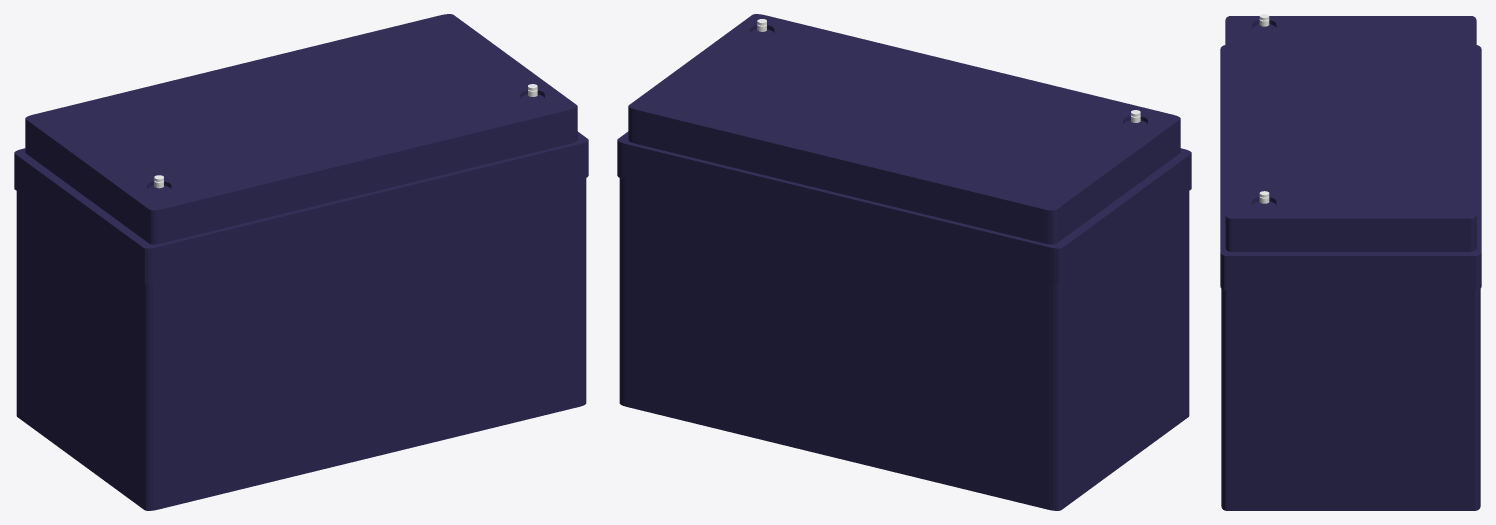
File: battery.glb
3 renders of one model, left to right at view 1: azimuth 30°, elevation 25°; view 2: azimuth 150°, elevation 25°; view 3: azimuth 270°, elevation 25°, orthographic. The views are drawn at different scales.
Parts seen in each view (by area): view 1: Plane; view 2: Plane; view 3: Plane.
Boxes of the visible parts, left/top/right/bottom form: Plane: left=14, top=14, right=588, bottom=510; Plane: left=617, top=14, right=1191, bottom=510; Plane: left=1220, top=14, right=1481, bottom=510.
Bounding box in the file's own units: 0.3328 × 0.2219 × 0.1741.
